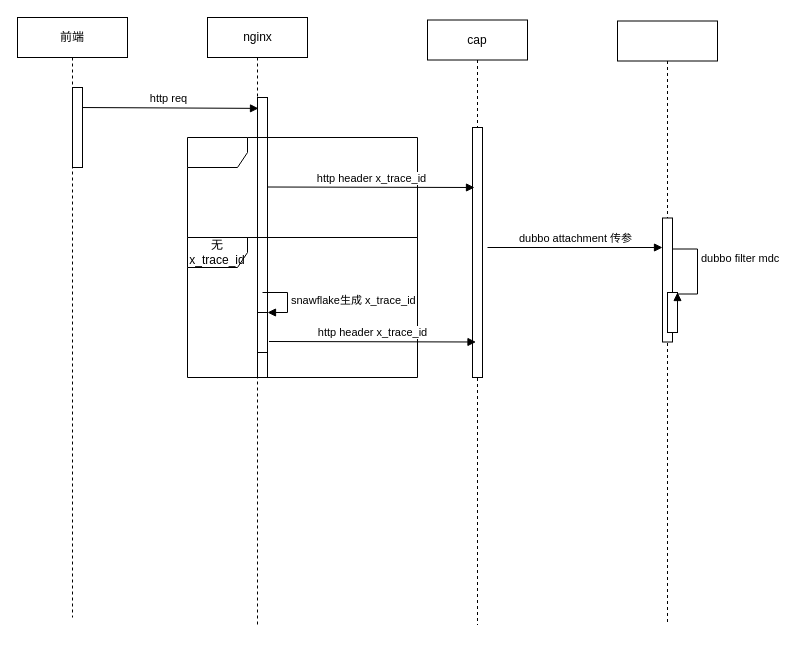
This 797x645 diagram has some shape labels left out. Each missing label, with the centre of its shape:
"dubbo应用" goes at (667,322).
"有x_trace_id" goes at (302,187).
